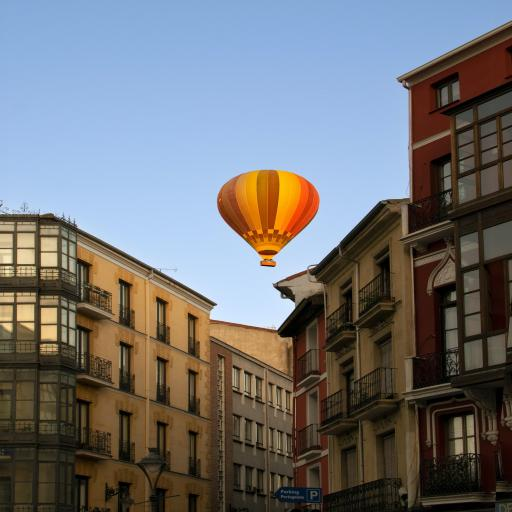hot air ballon: (216, 169, 321, 267)
